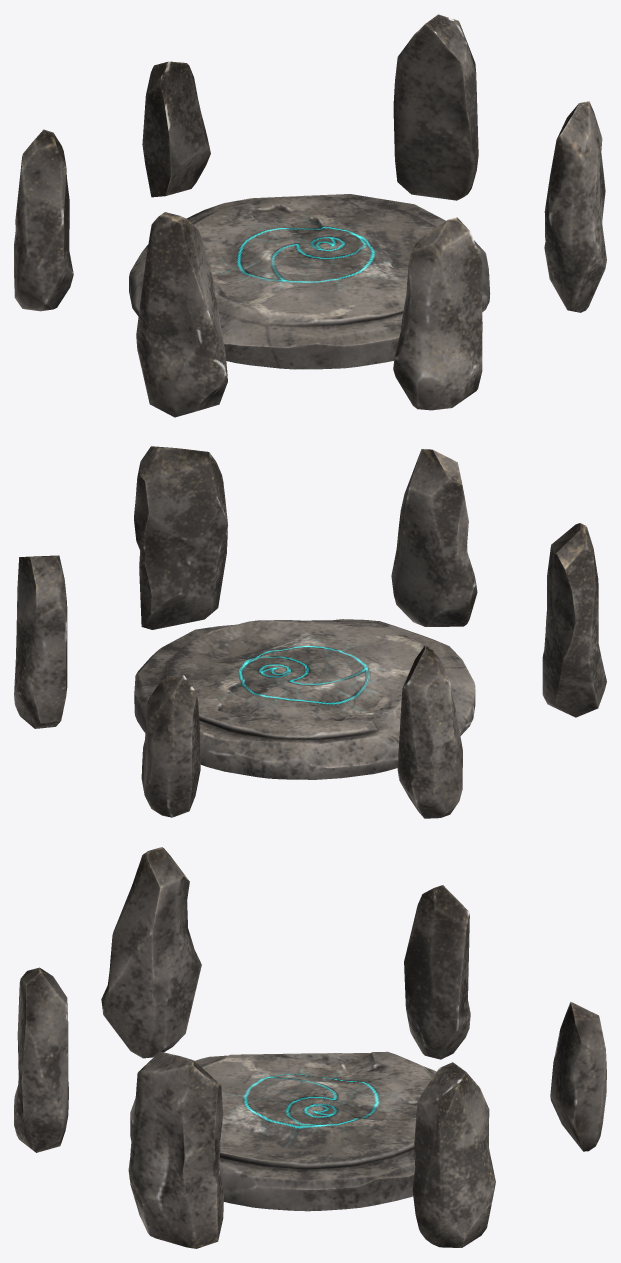
The model's file is portal.glb.
3 renders of one model, top to bottom at view 1: azimuth 30°, elevation 25°; view 2: azimuth 150°, elevation 25°; view 3: azimuth 270°, elevation 25°, orthographic. The views are drawn at different scales.
Visible parts, largest first — view 1: portalbase, portalmonolith_5, portalmonolith_4, portalmonolith_2, portalmonolith_3, portalmonolith_6, portalmonolith; view 2: portalbase, portalmonolith_3, portalmonolith_4, portalmonolith_5, portalmonolith_6, portalmonolith_2, portalmonolith; view 3: portalbase, portalmonolith_3, portalmonolith_5, portalmonolith_2, portalmonolith_6, portalmonolith_4, portalmonolith.
Part boxes in pixels (<box>): portalbase: <box>129,194,490,369</box>; portalmonolith_5: <box>136,212,227,417</box>; portalmonolith_4: <box>393,217,482,410</box>; portalmonolith_2: <box>393,14,478,200</box>; portalmonolith_3: <box>544,101,606,312</box>; portalmonolith_6: <box>14,129,73,311</box>; portalmonolith: <box>142,61,210,197</box>; portalbase: <box>134,619,475,779</box>; portalmonolith_3: <box>134,446,227,629</box>; portalmonolith_4: <box>391,449,477,626</box>; portalmonolith_5: <box>542,523,606,717</box>; portalmonolith_6: <box>397,645,462,818</box>; portalmonolith_2: <box>14,555,67,728</box>; portalmonolith: <box>141,675,200,817</box>; portalbase: <box>130,1051,436,1211</box>; portalmonolith_3: <box>128,1051,223,1248</box>; portalmonolith_5: <box>101,847,201,1058</box>; portalmonolith_2: <box>412,1062,495,1247</box>; portalmonolith_6: <box>404,885,470,1059</box>; portalmonolith_4: <box>14,967,68,1152</box>; portalmonolith: <box>550,1001,606,1151</box>.
Size of the model in its own units: 2280 by 935 by 2534.
1 material, 1 textured.
